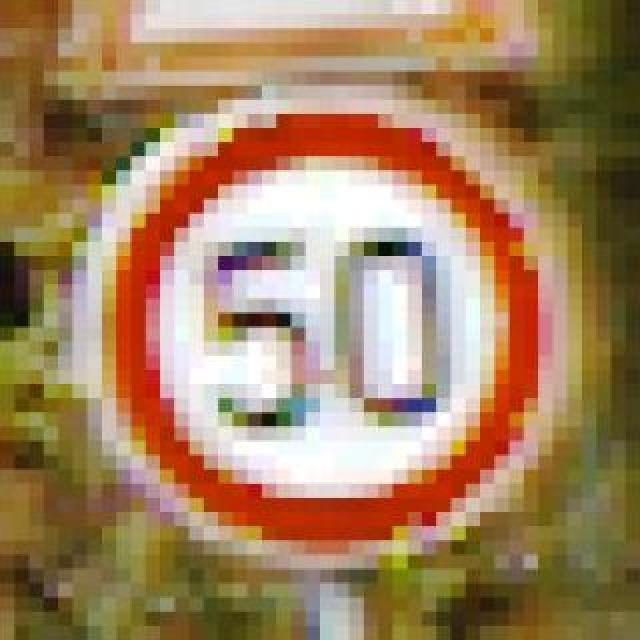50 kph: (44, 72, 568, 556)
